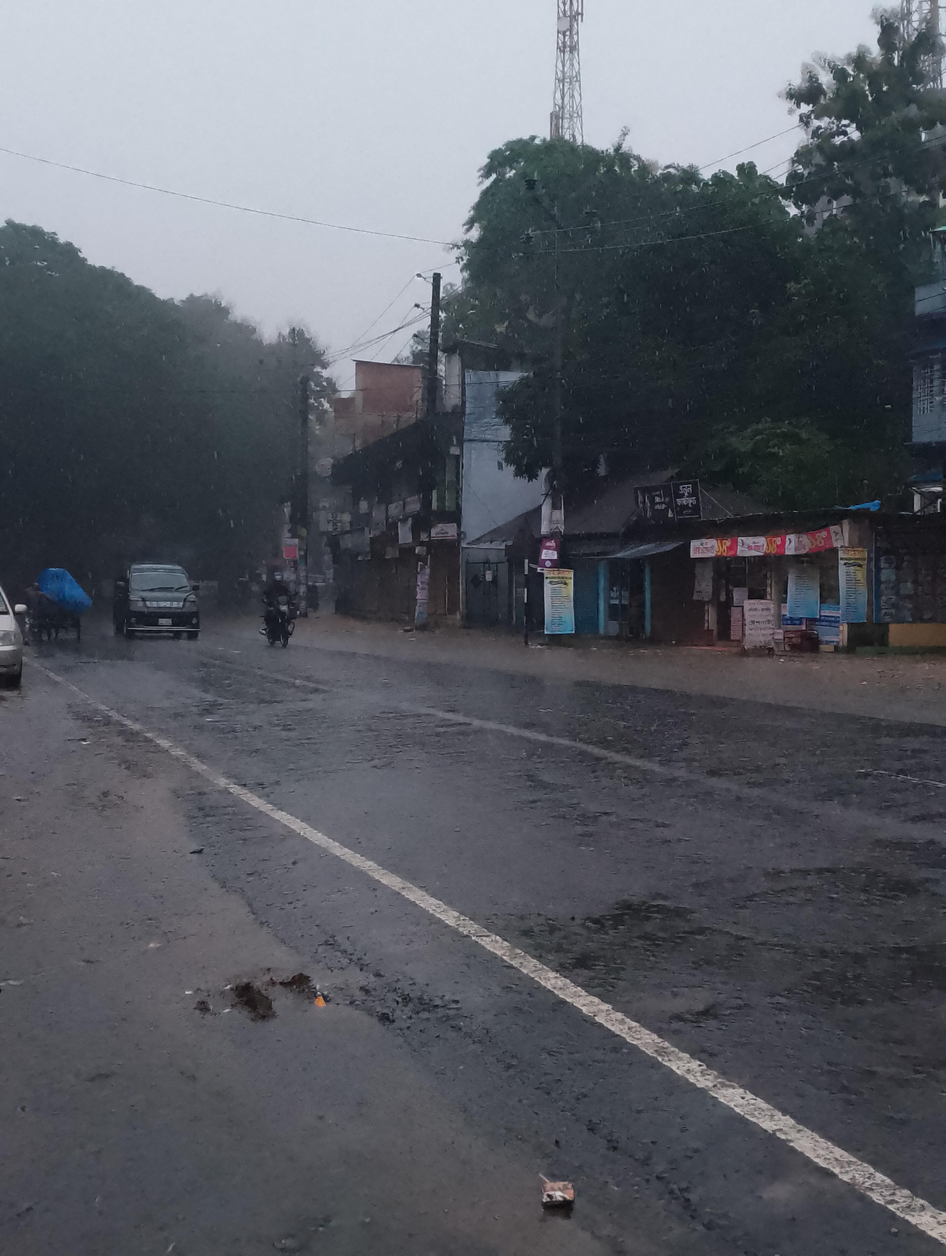Bike: (240, 555, 327, 666)
Car: (100, 539, 213, 651)
